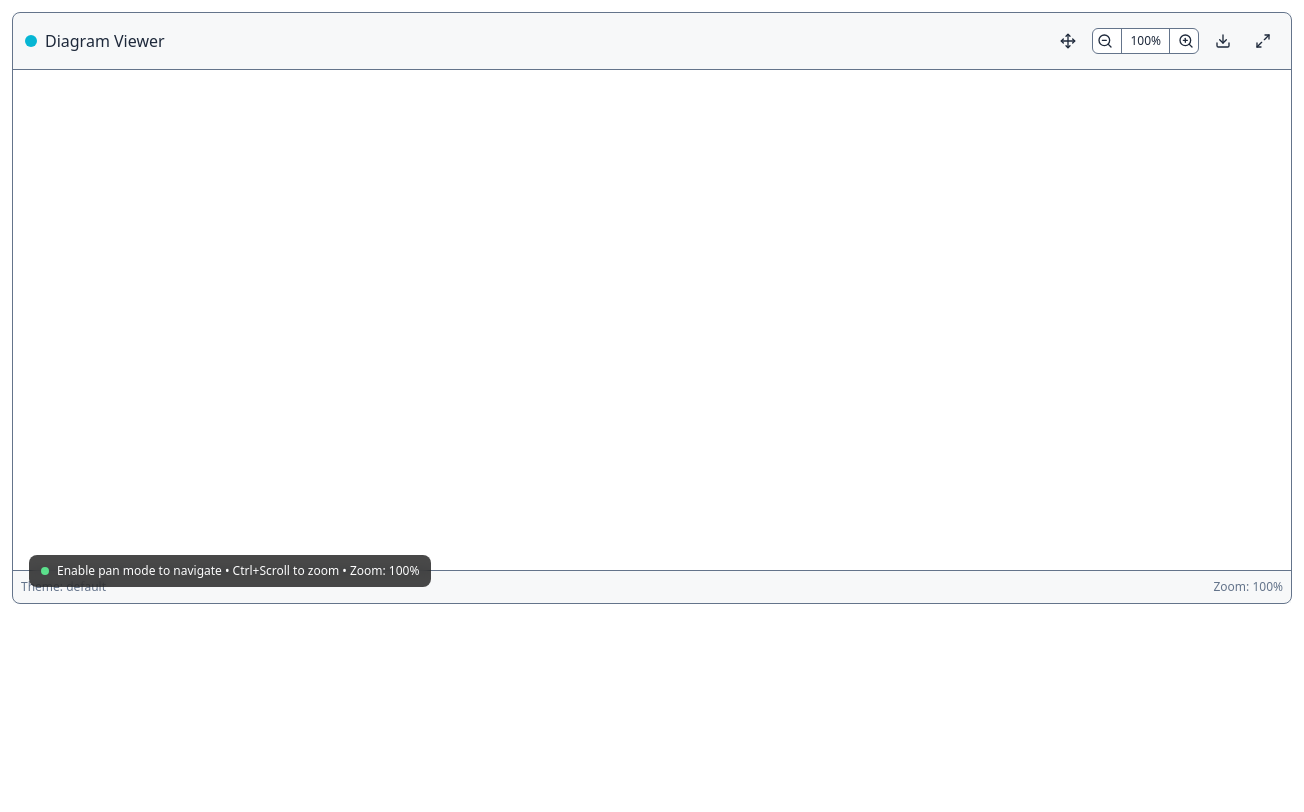
Scenario: DiagramViewer › should toggle pan mode
Click the button titled "Enter pan mode".
click(1068, 41)  # box [1052,25,1084,57]
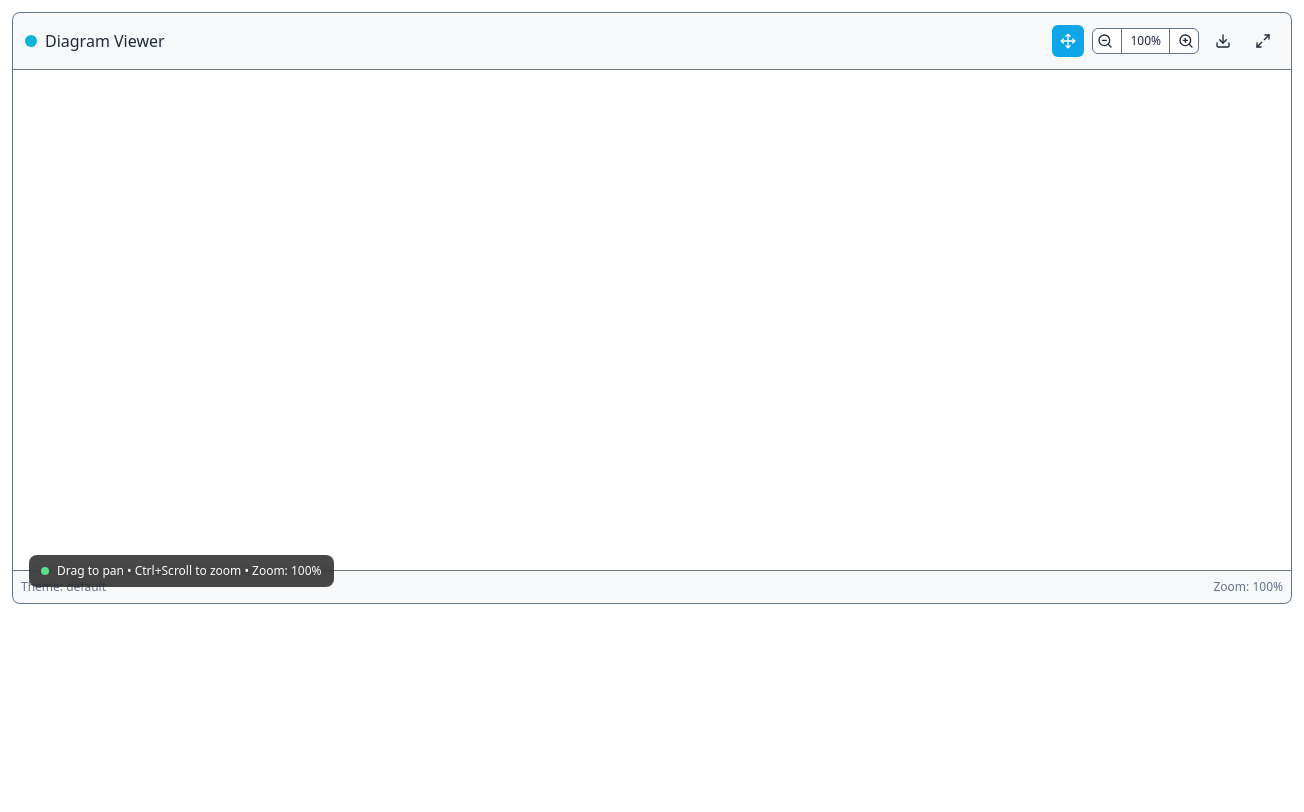
Expected: the button titled "Exit pan mode" is shown, [1052,25,1084,57]
